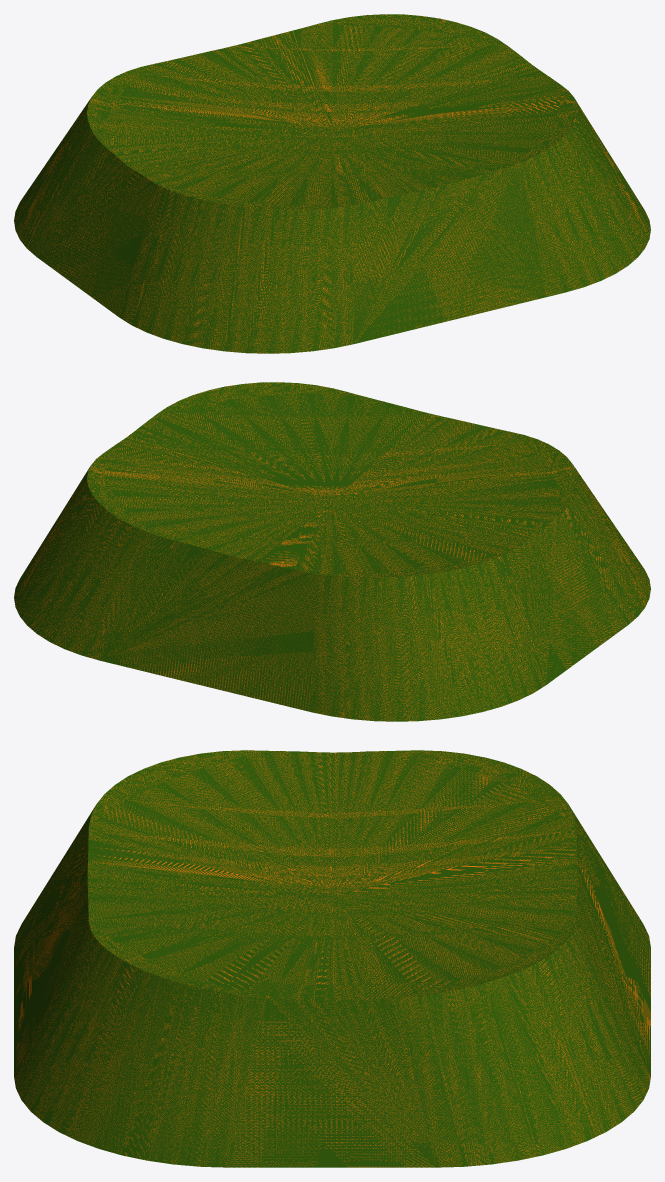
The model's file is original-10.obj.
The picture shows the model from 3 angles, top to bottom: view 1: azimuth 30°, elevation 25°; view 2: azimuth 150°, elevation 25°; view 3: azimuth 270°, elevation 25°; orthographic projection. The views are drawn at different scales.
Parts seen in each view (by area): view 1: Group10/mesh10/mesh10-geometry#mesh10-geometry; view 2: Group10/mesh10/mesh10-geometry#mesh10-geometry; view 3: Group10/mesh10/mesh10-geometry#mesh10-geometry.
Part boxes in pixels (x1=…): Group10/mesh10/mesh10-geometry#mesh10-geometry: x1=14, y1=14, x2=650, y2=353; Group10/mesh10/mesh10-geometry#mesh10-geometry: x1=14, y1=382, x2=650, y2=721; Group10/mesh10/mesh10-geometry#mesh10-geometry: x1=14, y1=750, x2=650, y2=1167.
Size of the model in its own units: 0.0542 by 0.0116 by 0.0469.
